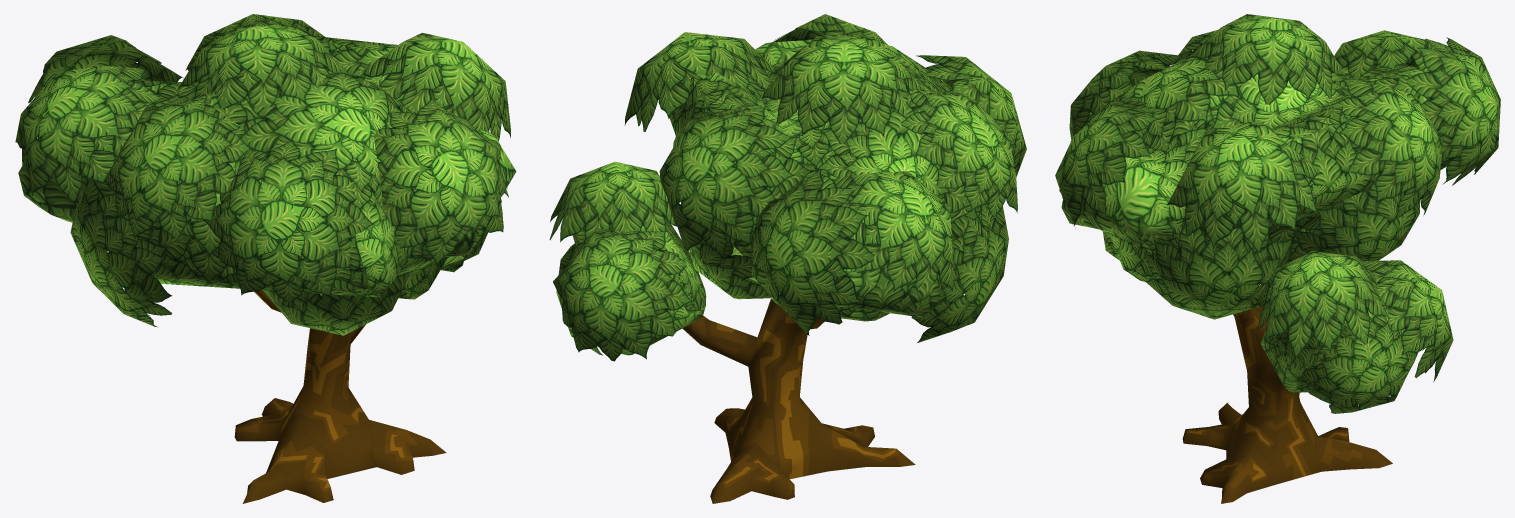
The model's file is ToonTree_01_Var_01.fbx.
The picture shows the model from 3 angles, left to right: view 1: azimuth 30°, elevation 25°; view 2: azimuth 150°, elevation 25°; view 3: azimuth 270°, elevation 25°; orthographic projection. The views are drawn at different scales.
Visible parts, largest first — view 1: Leaves, LeavesBase, Bark; view 2: Leaves, LeavesBase, Bark; view 3: Leaves, LeavesBase, Bark.
Part boxes in pixels (x1=…): Leaves: x1=15, y1=14, x2=510, y2=335; LeavesBase: x1=18, y1=35, x2=516, y2=299; Bark: x1=234, y1=290, x2=446, y2=503; Leaves: x1=549, y1=14, x2=1026, y2=361; LeavesBase: x1=572, y1=40, x2=988, y2=355; Bark: x1=682, y1=299, x2=915, y2=503; Leaves: x1=1055, y1=14, x2=1500, y2=413; LeavesBase: x1=1059, y1=42, x2=1467, y2=392; Bark: x1=1182, y1=306, x2=1392, y2=503.
Bounding box in the file's own units: 11.94 × 11.34 × 11.11.
